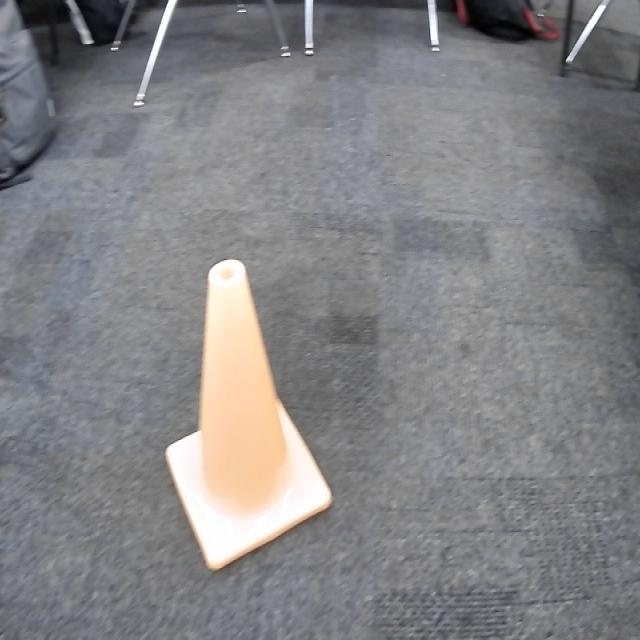cone: (164, 252, 334, 574)
